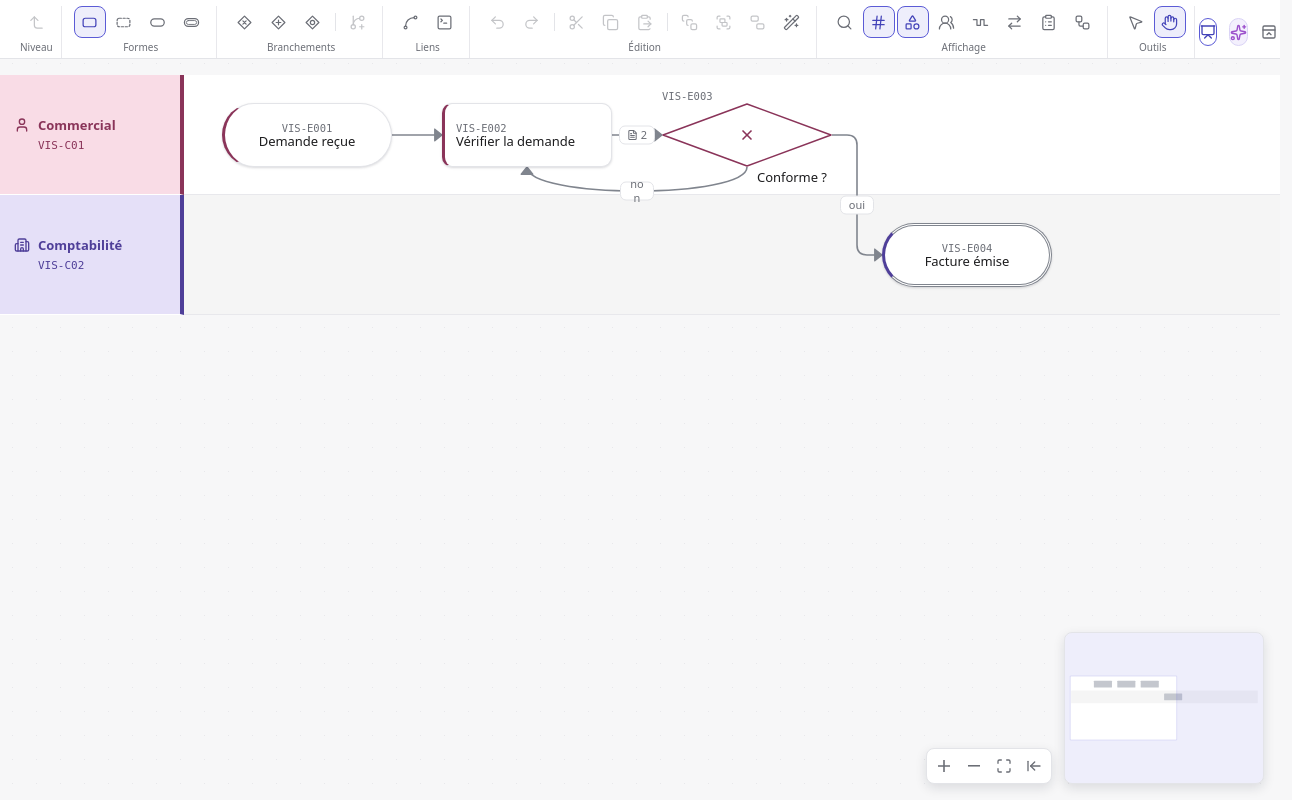
the filters and the sorts (ADR 112 point 5) › a project without pain point says so; no line left by the filters says so; a refusal of the host is said
What coordinates should you click on to do the following:
click the button with test id "ribbon-plan"
I would click on:
 (1049, 22)
Its box is [1033,6,1065,38].
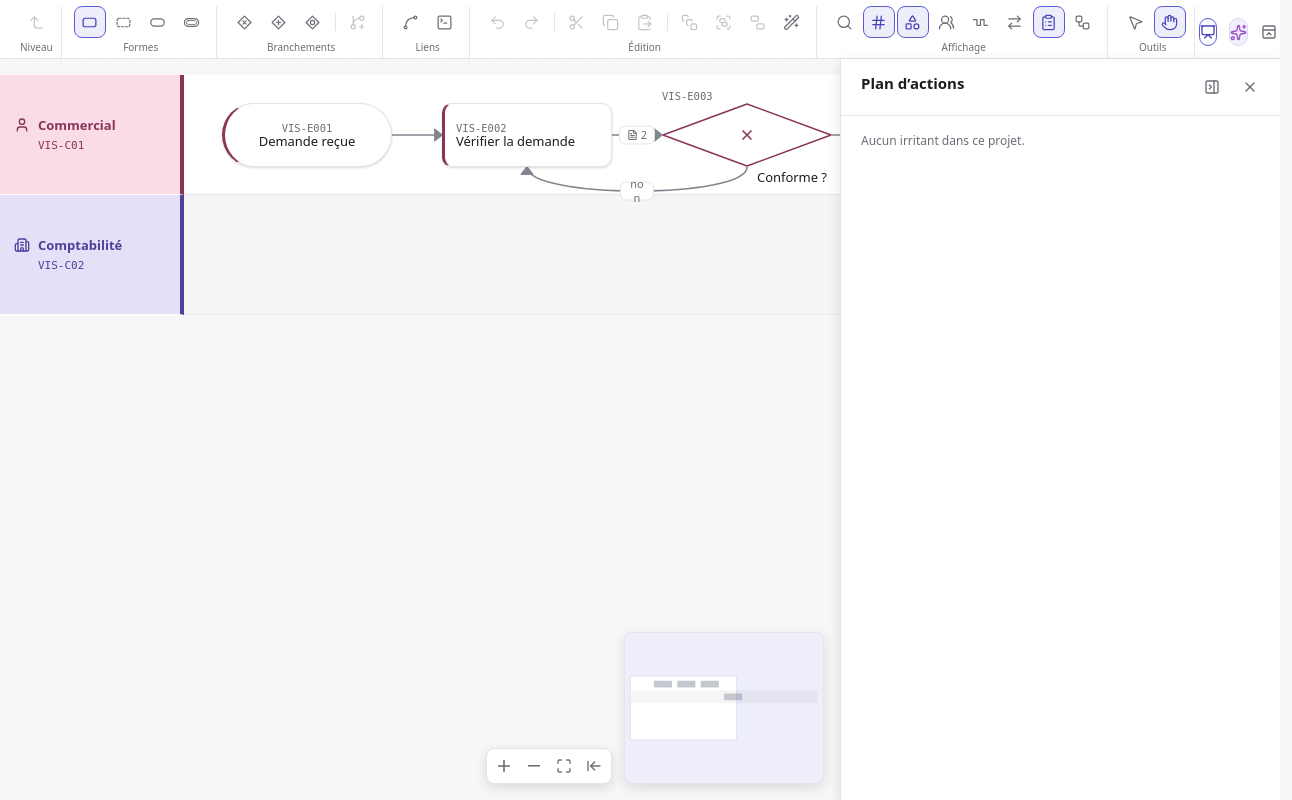
Expected: the text "Aucun irritant dans ce projet." is shown, [861,132,1025,149]
What coordinates should you click on to do the following:
click the button with test id "ribbon-plan"
I would click on:
 (1049, 22)
Its box is [1033,6,1065,38].
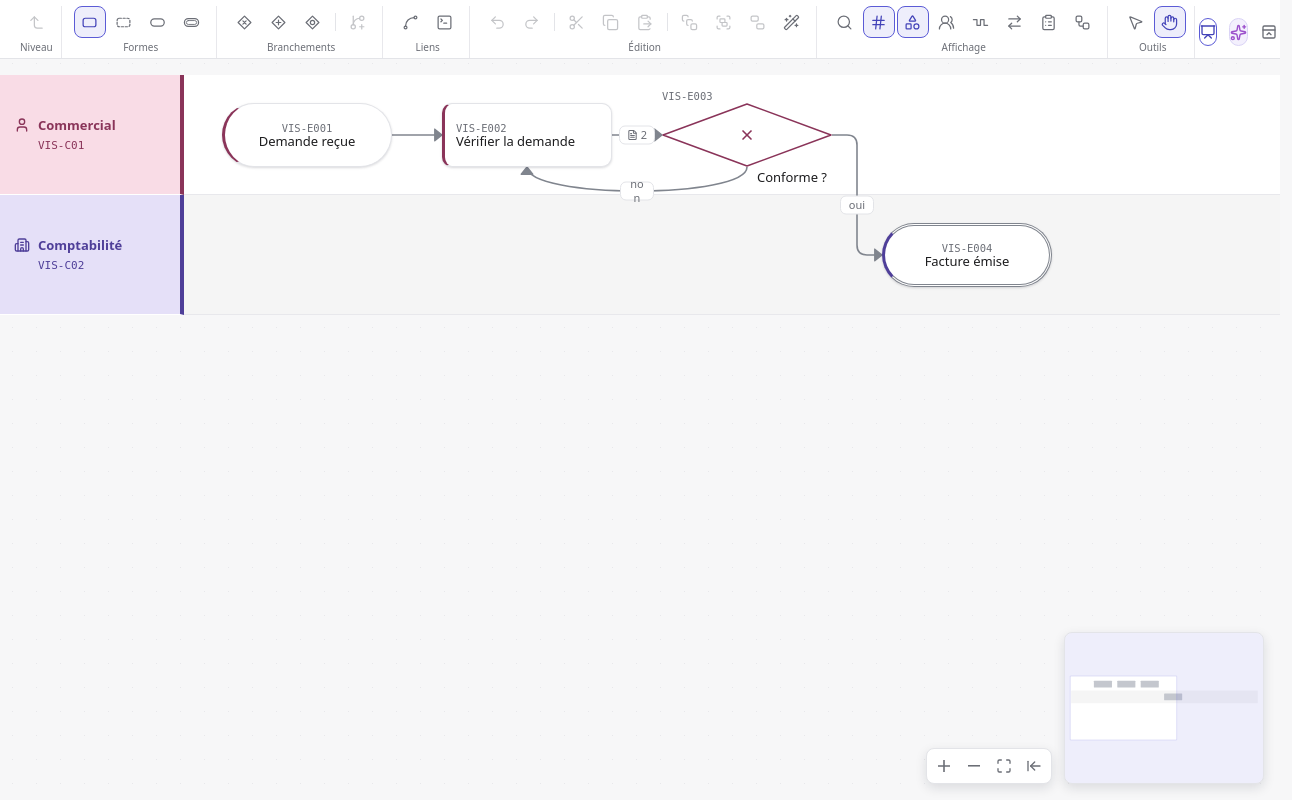
What coordinates should you click on to do the following:
click the button with test id "ribbon-plan"
I would click on:
 (1049, 22)
Its box is [1033,6,1065,38].
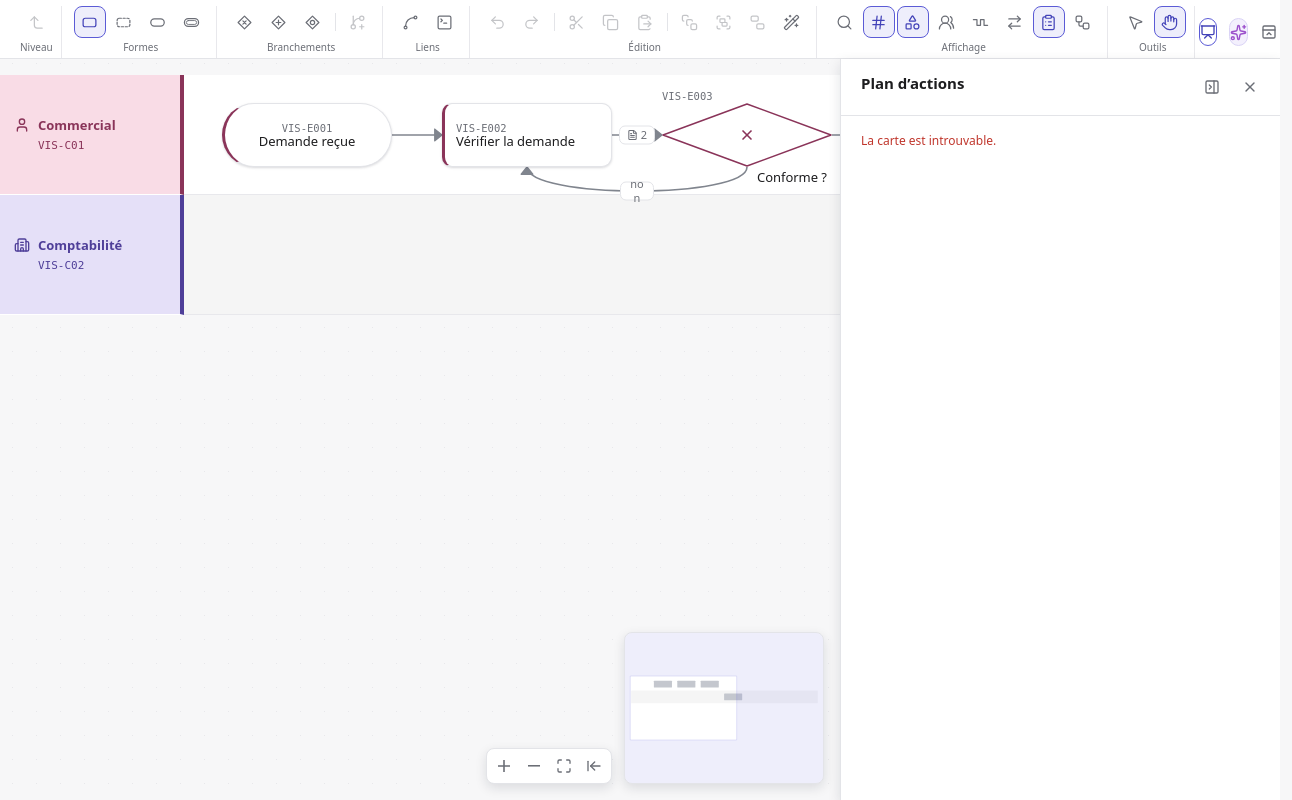
Expected: the message reads "La carte est introuvable.", [861,132,996,149]
